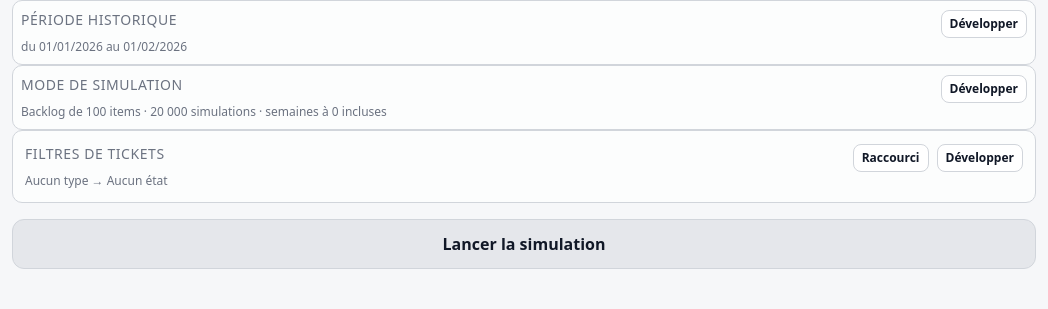
Scenario: SimulationControlPanel launch button visibility › shows validation error and does not run when required filters are missing
The image size is (1048, 309).
Step 1. Click the button "Lancer la simulation" → (524, 244), box top-left (12, 219), bottom-right (1036, 269)
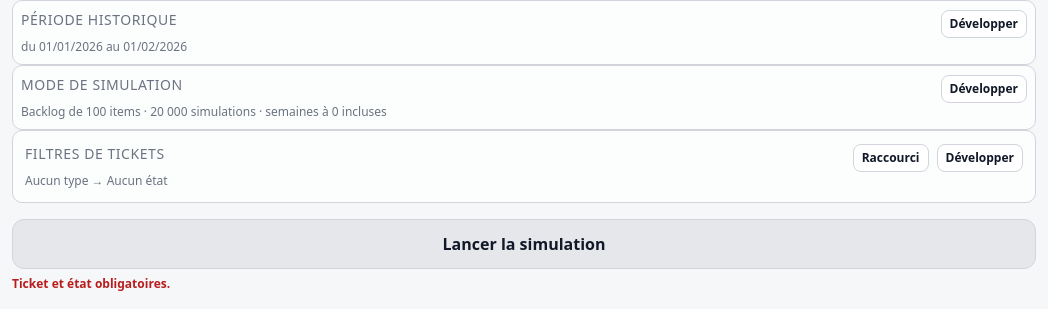
Result: the text "Ticket et état obligatoires." is shown at top-left (12, 275), bottom-right (170, 292)
